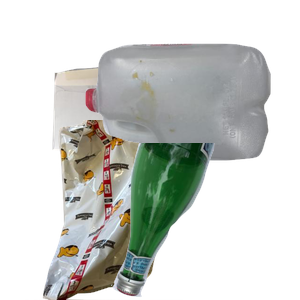glass: (109, 143, 300, 300)
paper: (50, 61, 257, 211)
plastic: (83, 41, 300, 194)
trash: (25, 120, 198, 300)
